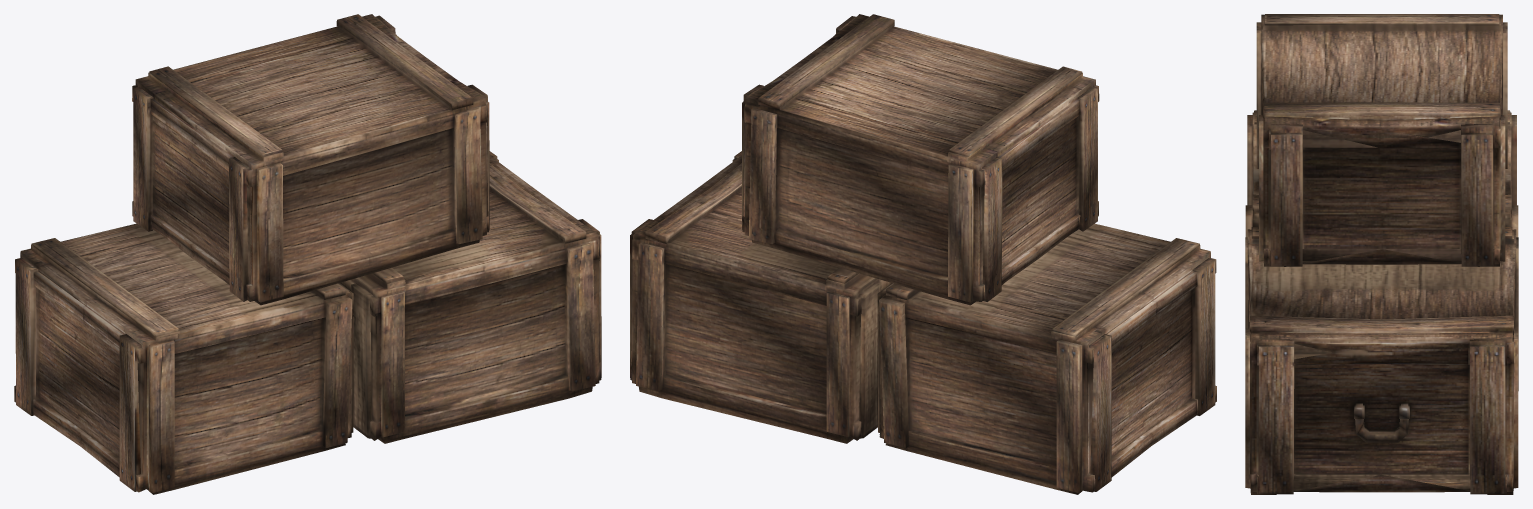
The model's file is generated-1948-11-supply-crate-stack.glb.
3 renders of one model, left to right at view 1: azimuth 30°, elevation 25°; view 2: azimuth 150°, elevation 25°; view 3: azimuth 270°, elevation 25°, orthographic. The views are drawn at different scales.
Parts seen in each view (by area): view 1: tripo_node_84e7c359-ffbc-4677-8f64-d1ed25483560; view 2: tripo_node_84e7c359-ffbc-4677-8f64-d1ed25483560; view 3: tripo_node_84e7c359-ffbc-4677-8f64-d1ed25483560.
Boxes of the visible parts, bbox=[...] form: tripo_node_84e7c359-ffbc-4677-8f64-d1ed25483560: bbox=[14, 14, 601, 494]; tripo_node_84e7c359-ffbc-4677-8f64-d1ed25483560: bbox=[630, 14, 1216, 494]; tripo_node_84e7c359-ffbc-4677-8f64-d1ed25483560: bbox=[1245, 14, 1518, 494].
Bounding box in the file's own units: 0.9995 × 0.6489 × 0.4927.
Materials: 1 (1 with a texture image).
